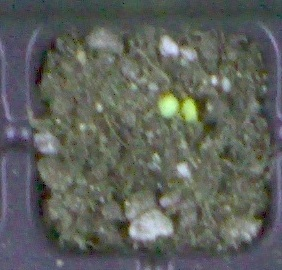chilli seed: (156, 92, 180, 118), (181, 95, 199, 122)
